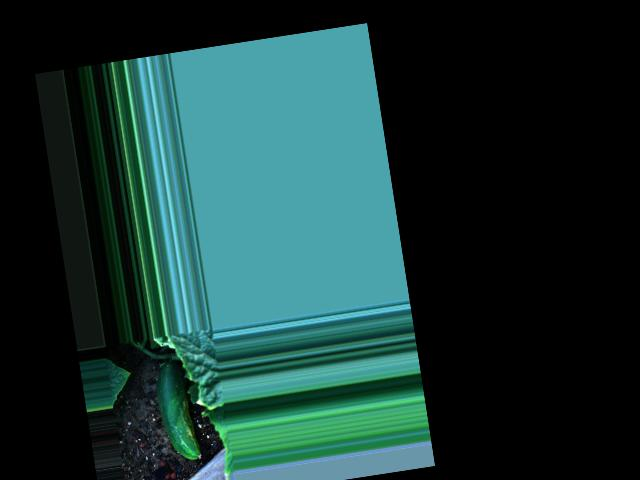cucumber: (152, 359, 202, 464)
